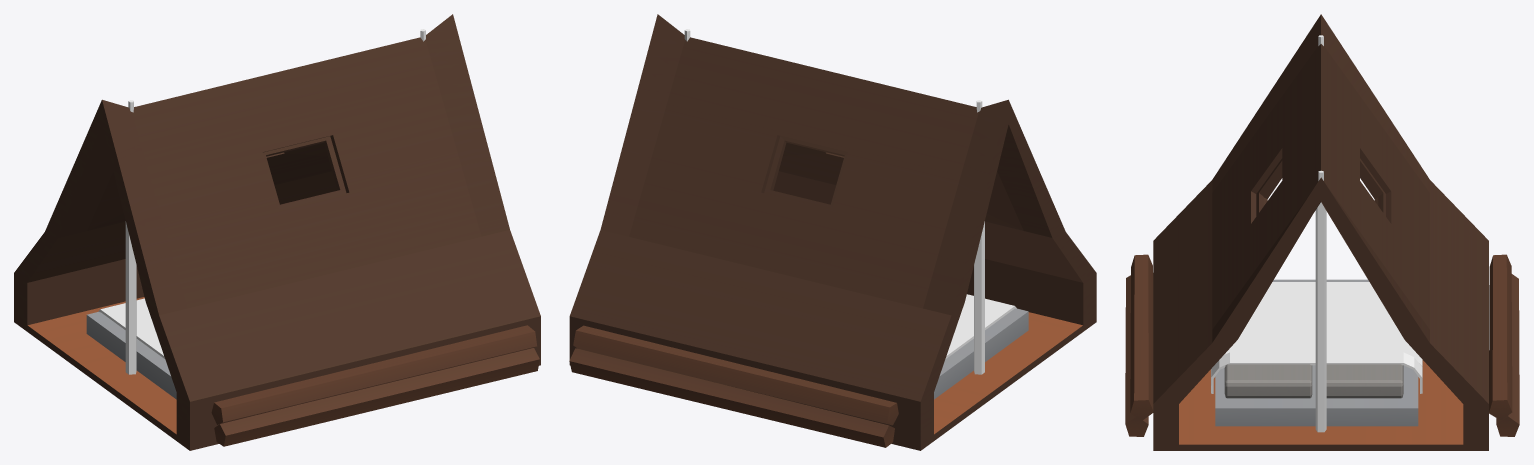
The model's file is tienda1.fbx.
3 views of the same model, side by side, from view 1: azimuth 30°, elevation 25°; view 2: azimuth 150°, elevation 25°; view 3: azimuth 270°, elevation 25° (orthographic). The views are drawn at different scales.
Parts seen in each view (by area): view 1: tienda1; view 2: tienda1; view 3: tienda1.
Part boxes in pixels (x1,y1,x2,y2): tienda1: [14, 14, 540, 450]; tienda1: [569, 14, 1096, 450]; tienda1: [1125, 14, 1519, 450].
Size of the model in its own units: 772 by 603 by 788.
